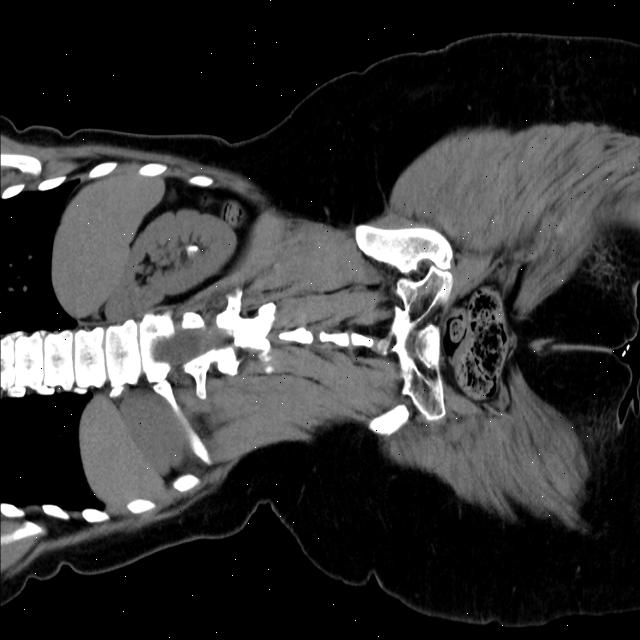kidneystone: (186, 242, 198, 254)
